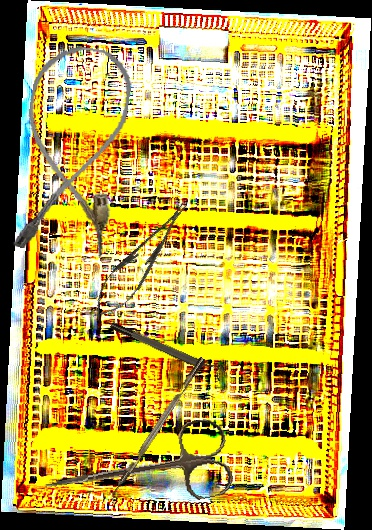Cannula: (7, 40, 137, 261)
Chopper: (104, 356, 213, 508)
Fixation Ring: (108, 315, 228, 382)
Iris Scissors: (38, 415, 236, 529)
Needle Holder: (82, 193, 200, 329)
